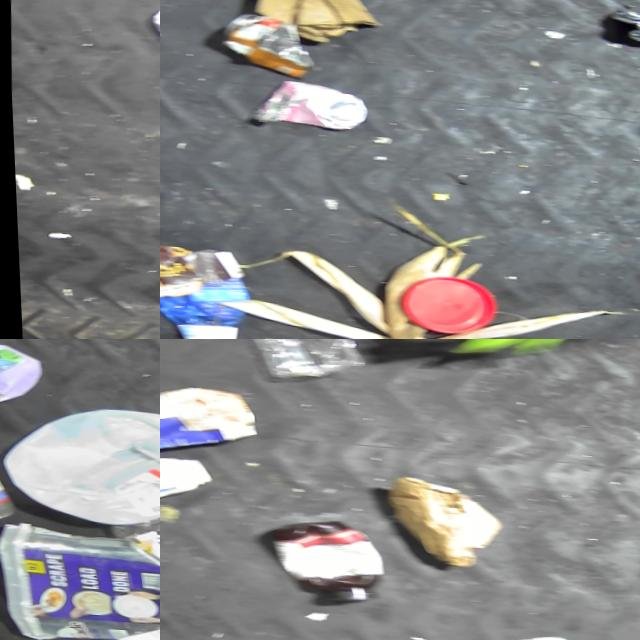can: (214, 8, 315, 77), (245, 75, 369, 131), (493, 627, 597, 640)
milk_jug: (0, 398, 160, 531)
non_white_jug: (160, 269, 247, 339)
plastic_bottle: (102, 497, 160, 638)
